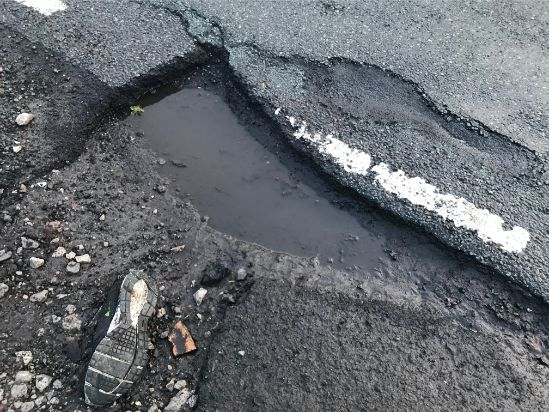pothole: (83, 40, 549, 331)
